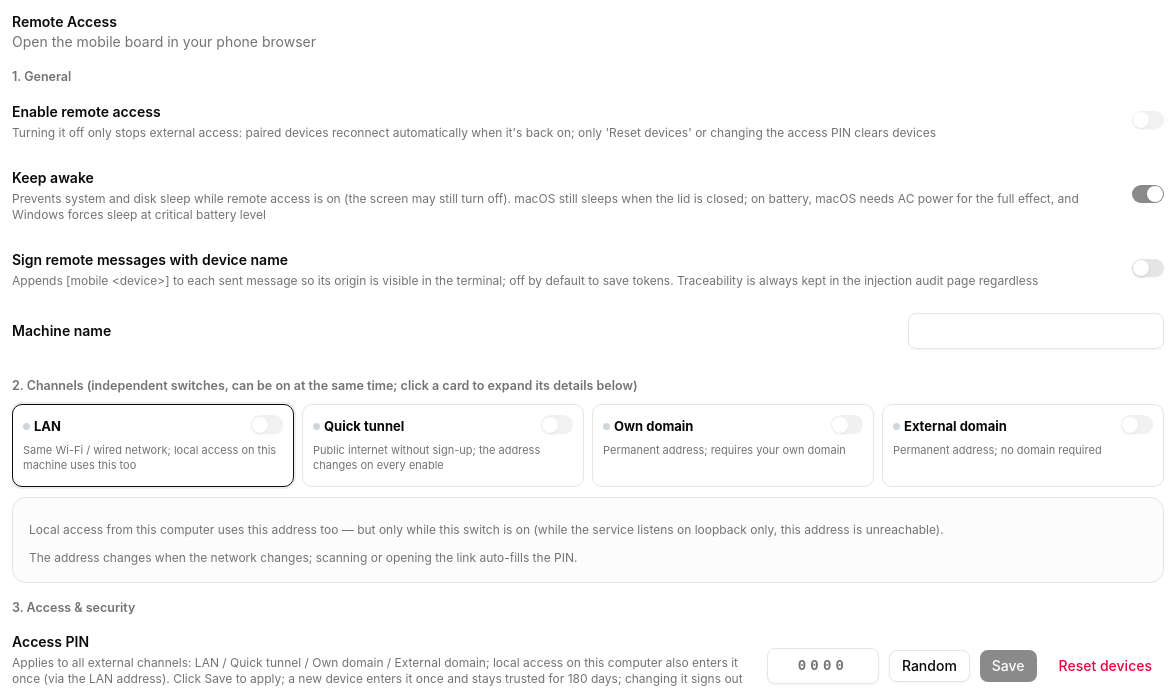
Scenario: RemoteSection quick 换址警告与运行态（M5 A6） › 错误态：error 原文展示、无「运行中」徽标
This screenshot has width=1176, height=688.
Click the button that starts with "Quick tunnel".
click(443, 445)  # box [302,404,584,486]
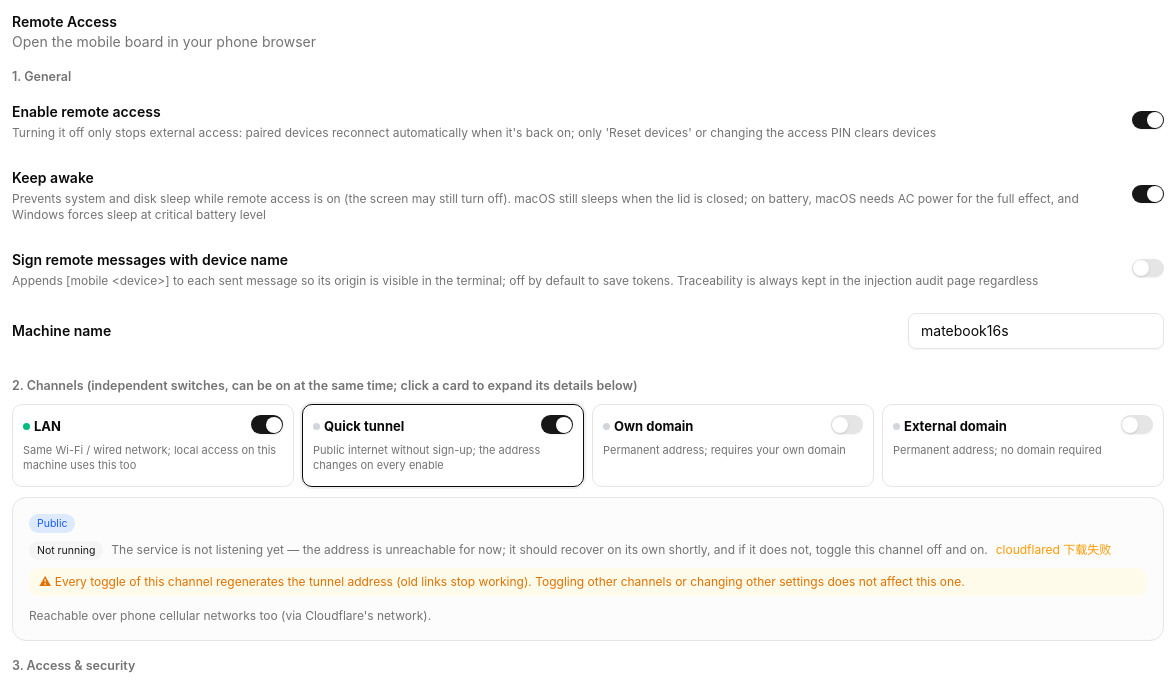
Expected: the text "cloudflared 下载失败" is shown, [996,542,1111,558]
